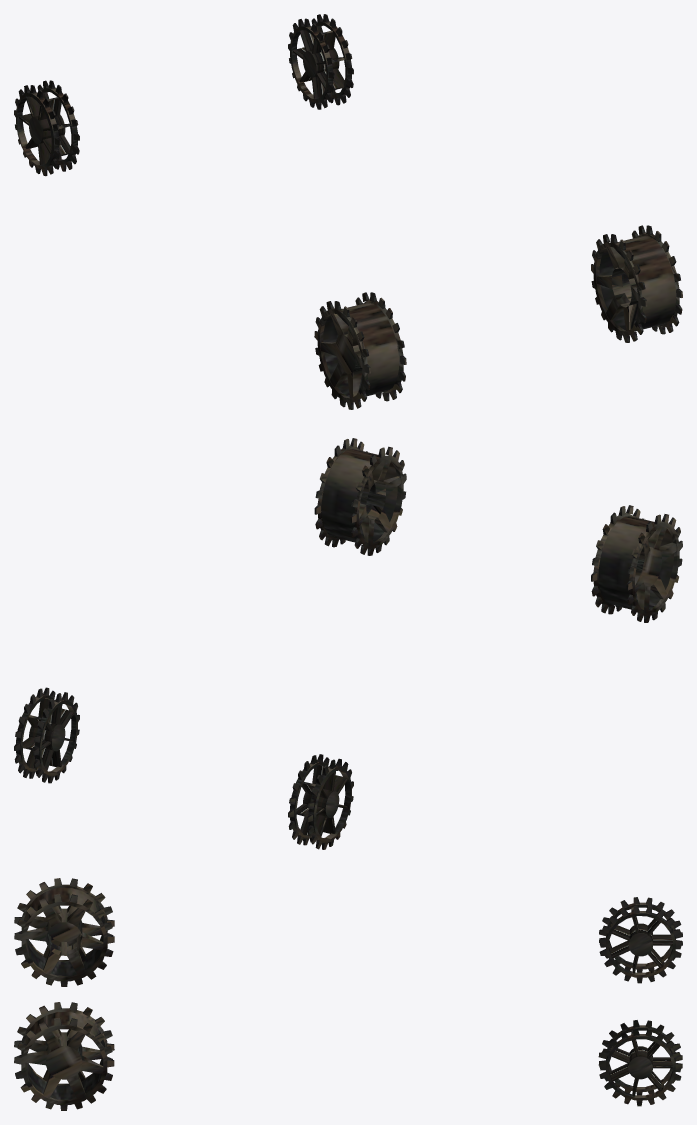
File: pz4_hull_m6.obj
The picture shows the model from 3 angles, top to bottom: view 1: azimuth 30°, elevation 25°; view 2: azimuth 150°, elevation 25°; view 3: azimuth 270°, elevation 25°; orthographic projection. The views are drawn at different scales.
Visible parts, largest first — view 1: pz4_hull_m6; view 2: pz4_hull_m6; view 3: pz4_hull_m6.
Boxes of the visible parts, left/top/right/bottom form: pz4_hull_m6: left=14, top=14, right=682, bottom=409; pz4_hull_m6: left=14, top=438, right=682, bottom=849; pz4_hull_m6: left=14, top=878, right=682, bottom=1110.
Size of the model in its own units: 2.75 by 0.8463 by 5.52.
Materials: 1 (1 with a texture image).
